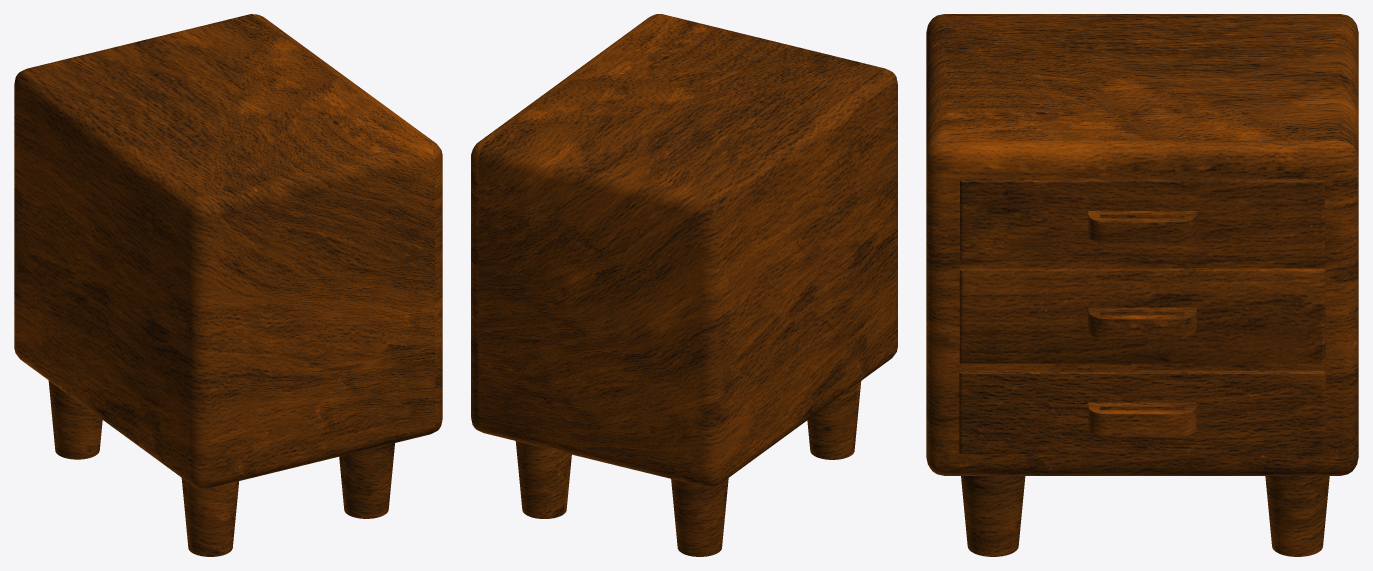
File: SM_night_table_A.fbx
3 views of the same model, side by side, from view 1: azimuth 30°, elevation 25°; view 2: azimuth 150°, elevation 25°; view 3: azimuth 270°, elevation 25° (orthographic). The views are drawn at different scales.
Visible parts, largest first — view 1: SM_night_table_A; view 2: SM_night_table_A; view 3: SM_night_table_A.
Boxes of the visible parts, x1,y1,x2,y2 form: SM_night_table_A: [14, 14, 442, 556]; SM_night_table_A: [471, 14, 897, 556]; SM_night_table_A: [926, 14, 1358, 556].
Size of the model in its own units: 169 by 218 by 200.
